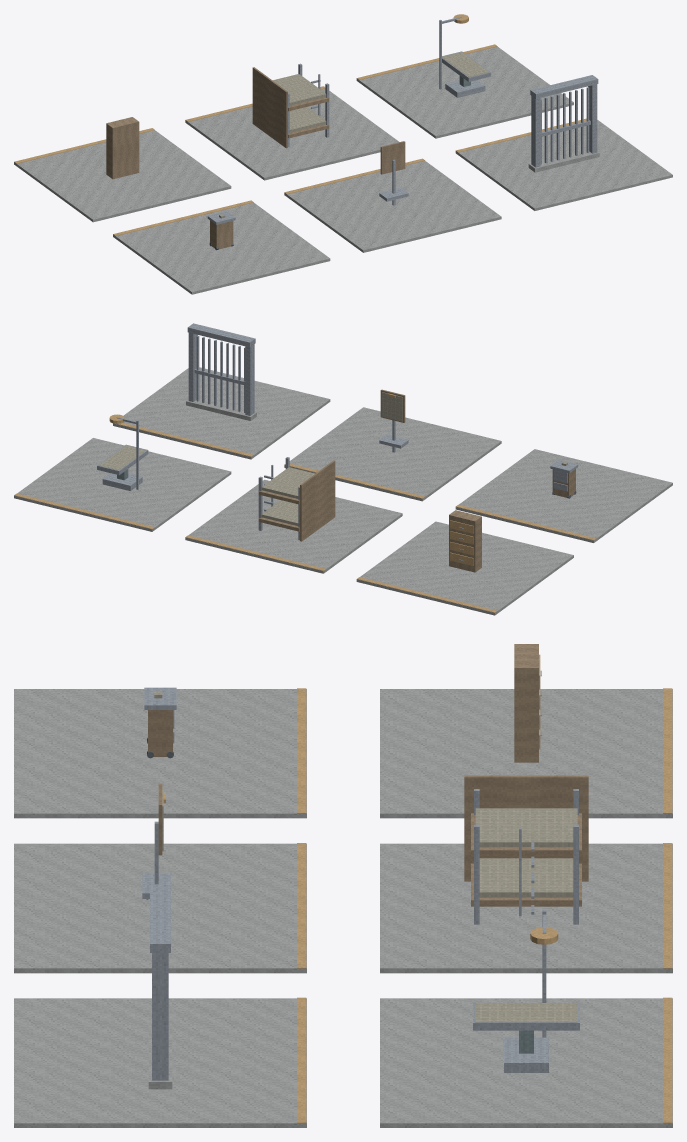
The model's file is level_blockout_kit_prison_p02.glb.
3 views of the same model, one above another, from view 1: azimuth 30°, elevation 25°; view 2: azimuth 150°, elevation 25°; view 3: azimuth 270°, elevation 25° (orthographic). The views are drawn at different scales.
Parts seen in each view (by area): view 1: level_blockout_kit_prison_p02; view 2: level_blockout_kit_prison_p02; view 3: level_blockout_kit_prison_p02.
Boxes of the visible parts, x1,y1,x2,y2 form: level_blockout_kit_prison_p02: (14,14,672,294); level_blockout_kit_prison_p02: (14,323,672,615); level_blockout_kit_prison_p02: (14,644,672,1127).
Bounding box in the file's own units: 19.65 × 3.16 × 12.6.
Materials: 7 (7 with a texture image).
